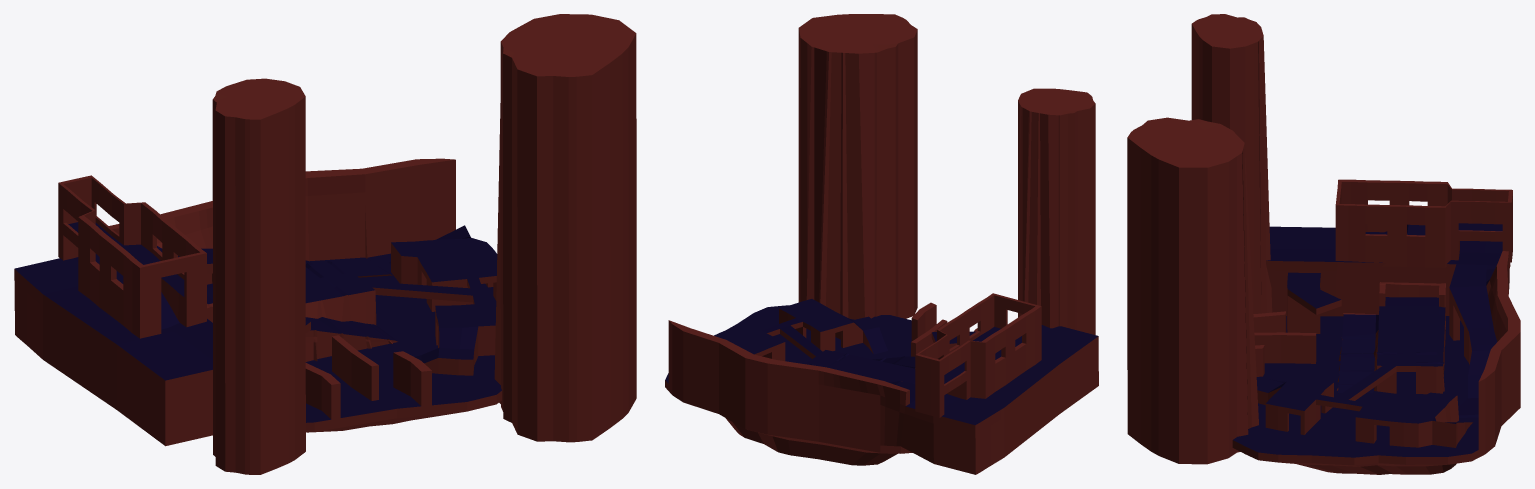
File: AshenRuinsLV2V1.0.fbx
The picture shows the model from 3 angles, left to right: view 1: azimuth 30°, elevation 25°; view 2: azimuth 150°, elevation 25°; view 3: azimuth 270°, elevation 25°; orthographic projection. The views are drawn at different scales.
Visible parts, largest first — view 1: Plane.112, Plane.110, Plane.111, Plane.108, Plane.109; view 2: Plane.110, Plane.112, Plane.111, Plane.109, Plane.108; view 3: Plane.112, Plane.110, Plane.108, Plane.109, Plane.111.
Boxes of the visible parts, left/top/right/bottom form: Plane.112: left=494, top=14, right=636, bottom=442; Plane.110: left=14, top=158, right=501, bottom=446; Plane.111: left=212, top=78, right=305, bottom=474; Plane.108: left=207, top=225, right=497, bottom=375; Plane.109: left=58, top=175, right=206, bottom=338; Plane.110: left=665, top=302, right=1098, bottom=474; Plane.112: left=798, top=14, right=917, bottom=319; Plane.111: left=1018, top=88, right=1095, bottom=334; Plane.109: left=915, top=293, right=1041, bottom=417; Plane.108: left=714, top=299, right=915, bottom=384; Plane.112: left=1127, top=117, right=1258, bottom=464; Plane.110: left=1232, top=226, right=1520, bottom=474; Plane.108: left=1257, top=282, right=1472, bottom=447; Plane.109: left=1335, top=179, right=1512, bottom=267; Plane.111: left=1191, top=14, right=1272, bottom=313.
Bounding box in the file's own units: 7907 × 7177 × 7429.
